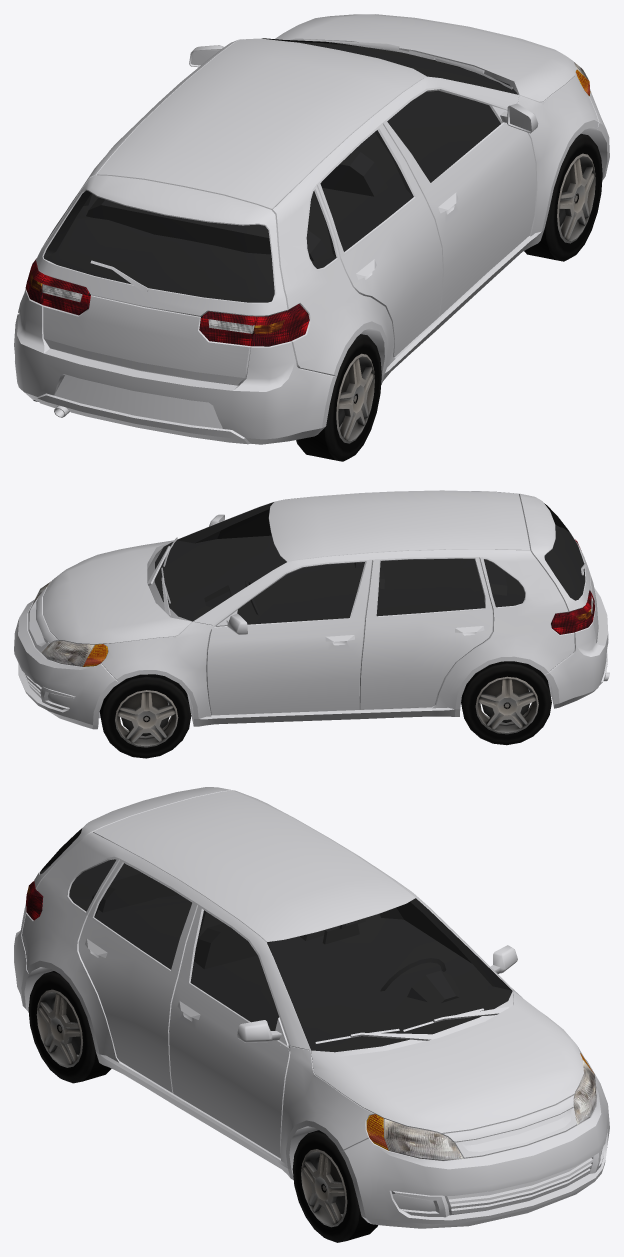
File: traffic_hatchback.glb
3 views of the same model, one above another, from view 1: azimuth 30°, elevation 25°; view 2: azimuth 150°, elevation 25°; view 3: azimuth 270°, elevation 25° (orthographic). The views are drawn at different scales.
Parts seen in each view (by area): view 1: hatchback_c_body, hatchback_c_glass, hatchback_c_wheel_2, hatchback_c_optics, hatchback_c_wheel_0; view 2: hatchback_c_body, hatchback_c_glass, hatchback_c_wheel_1, hatchback_c_wheel_3, hatchback_c_optics; view 3: hatchback_c_body, hatchback_c_glass, hatchback_c_wheel_0, hatchback_c_wheel_2, hatchback_c_optics.
Part boxes in pixels (box(x1,y1,x2,y2)): hatchback_c_body: box(14, 14, 609, 444); hatchback_c_glass: box(43, 38, 518, 302); hatchback_c_wheel_2: box(296, 334, 381, 461); hatchback_c_optics: box(25, 62, 590, 346); hatchback_c_wheel_0: box(524, 134, 602, 261); hatchback_c_body: box(14, 490, 609, 729); hatchback_c_glass: box(154, 502, 585, 624); hatchback_c_wheel_1: box(99, 674, 191, 758); hatchback_c_wheel_3: box(461, 661, 551, 745); hatchback_c_optics: box(32, 539, 594, 666); hatchback_c_body: box(14, 787, 609, 1228); hatchback_c_glass: box(40, 828, 512, 1052); hatchback_c_wheel_0: box(292, 1130, 378, 1242); hatchback_c_wheel_2: box(28, 971, 111, 1083); hatchback_c_optics: box(26, 881, 596, 1160).
Size of the model in its own units: 3.7 by 1.35 by 3.11.
7 materials, 5 textured.
